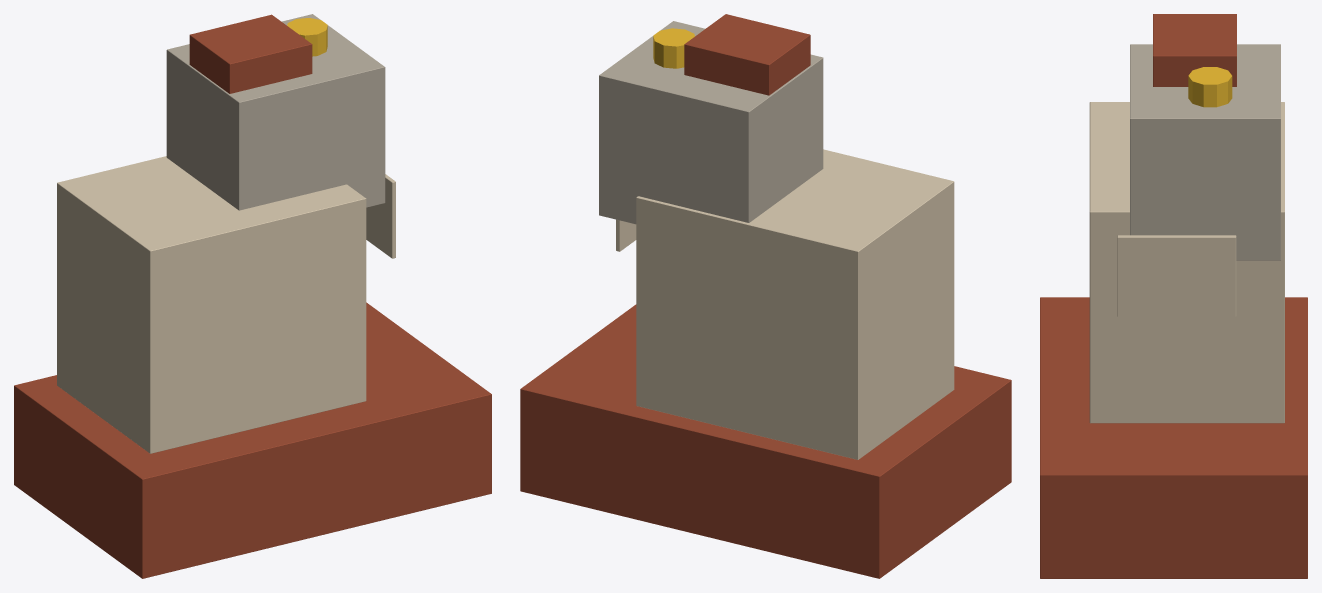
Rendered from JHB_SkylinePop_02_LOD2.fbx.
3 views of the same model, side by side, from view 1: azimuth 30°, elevation 25°; view 2: azimuth 150°, elevation 25°; view 3: azimuth 270°, elevation 25° (orthographic). The views are drawn at different scales.
Parts seen in each view (by area): view 1: JHB02_LOD2_LowerTower, JHB02_LOD2_Podium, JHB02_LOD2_UpperTower, JHB02_LOD2_MechanicalRoom, JHB02_LOD2_Billboard, JHB02_LOD2_WaterTank; view 2: JHB02_LOD2_LowerTower, JHB02_LOD2_Podium, JHB02_LOD2_UpperTower, JHB02_LOD2_MechanicalRoom, JHB02_LOD2_WaterTank; view 3: JHB02_LOD2_Podium, JHB02_LOD2_LowerTower, JHB02_LOD2_UpperTower, JHB02_LOD2_Billboard, JHB02_LOD2_MechanicalRoom, JHB02_LOD2_WaterTank.
Boxes of the visible parts, box(x1,y1,x2,y2) form: JHB02_LOD2_LowerTower: box(57, 156, 366, 453); JHB02_LOD2_Podium: box(14, 302, 491, 578); JHB02_LOD2_UpperTower: box(166, 14, 385, 210); JHB02_LOD2_MechanicalRoom: box(189, 14, 312, 93); JHB02_LOD2_Billboard: box(366, 174, 395, 258); JHB02_LOD2_WaterTank: box(287, 18, 327, 56); JHB02_LOD2_LowerTower: box(636, 149, 954, 459); JHB02_LOD2_Podium: box(520, 304, 1011, 578); JHB02_LOD2_UpperTower: box(599, 21, 823, 224); JHB02_LOD2_MechanicalRoom: box(684, 14, 810, 95); JHB02_LOD2_WaterTank: box(653, 28, 694, 68); JHB02_LOD2_Podium: box(1040, 297, 1307, 578); JHB02_LOD2_LowerTower: box(1089, 102, 1284, 423); JHB02_LOD2_UpperTower: box(1130, 44, 1280, 260); JHB02_LOD2_Billboard: box(1117, 235, 1236, 316); JHB02_LOD2_MechanicalRoom: box(1153, 14, 1236, 86); JHB02_LOD2_WaterTank: box(1188, 67, 1232, 107).
Bounding box in the file's own units: 22 × 26.5 × 14.
